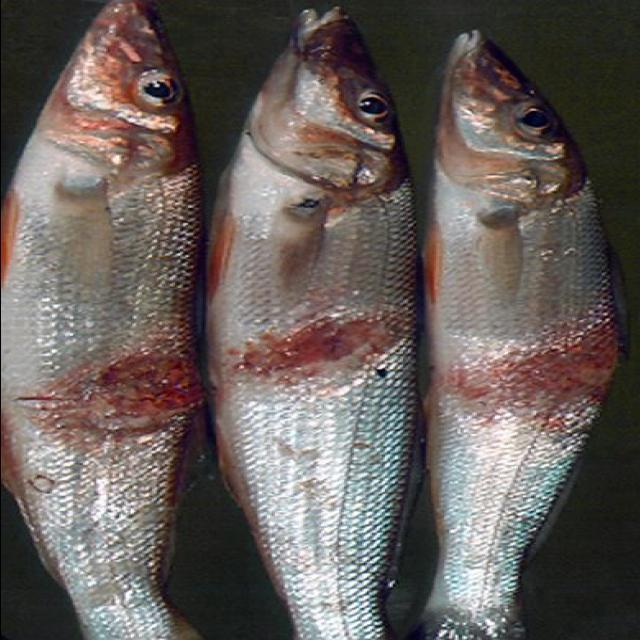EUS Disease: (217, 10, 426, 640), (425, 16, 629, 638), (0, 7, 202, 633), (421, 294, 633, 496), (216, 296, 418, 483), (0, 343, 212, 493)
